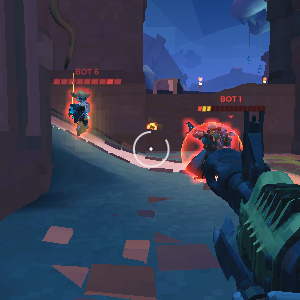model: (187, 114, 233, 187), (69, 84, 95, 136)
